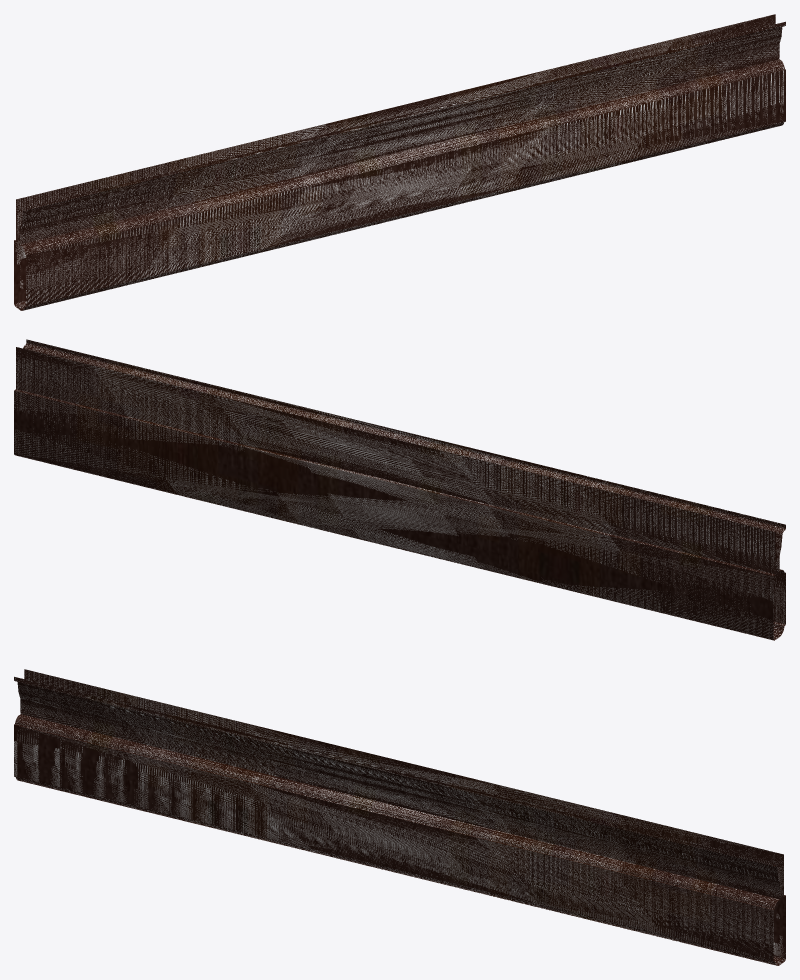
File: original-29.obj
3 views of the same model, one above another, from view 1: azimuth 30°, elevation 25°; view 2: azimuth 150°, elevation 25°; view 3: azimuth 330°, elevation 25° (orthographic).
Parts seen in each view (by area): view 1: RB_31_CL1/RB_31_CL/mesh18/mesh18-geometry#mesh18-geometry; view 2: RB_31_CL1/RB_31_CL/mesh18/mesh18-geometry#mesh18-geometry; view 3: RB_31_CL1/RB_31_CL/mesh18/mesh18-geometry#mesh18-geometry.
Part boxes in pixels (box(x1,y1,x2,y2)): RB_31_CL1/RB_31_CL/mesh18/mesh18-geometry#mesh18-geometry: box(14, 14, 785, 310); RB_31_CL1/RB_31_CL/mesh18/mesh18-geometry#mesh18-geometry: box(14, 339, 785, 640); RB_31_CL1/RB_31_CL/mesh18/mesh18-geometry#mesh18-geometry: box(14, 669, 785, 965).
Bounding box in the file's own units: 1.32 × 0.1793 × 0.0371.
